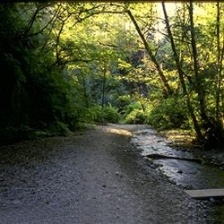neutral: (7, 2, 224, 222)
